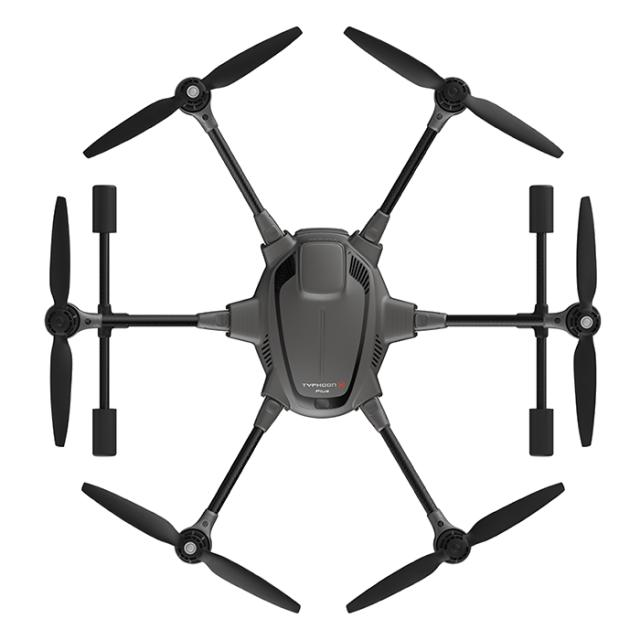drone: (21, 11, 628, 626)
